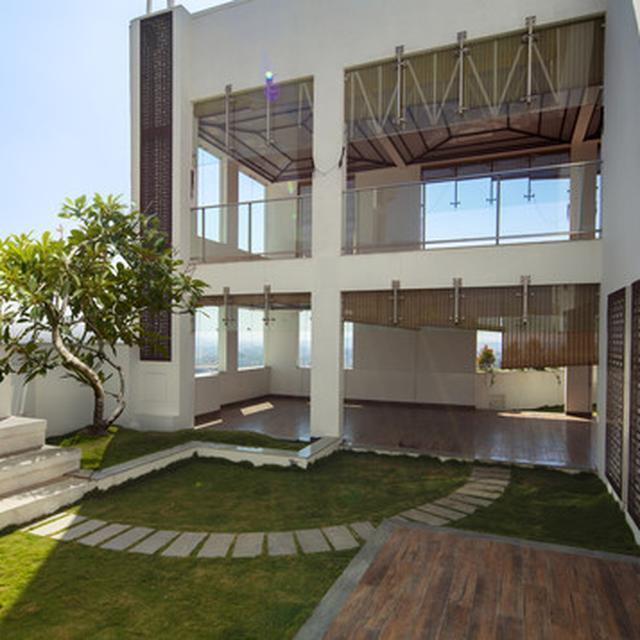building: (124, 0, 640, 474)
